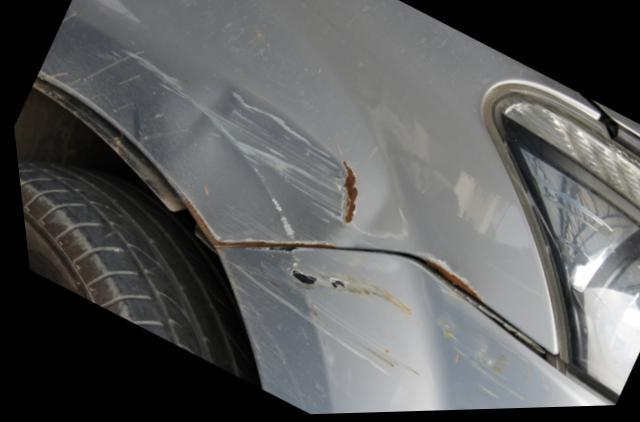dent: (171, 78, 231, 159)
dislocated part: (33, 0, 603, 371)
scratch: (220, 248, 533, 416), (213, 91, 355, 240), (79, 36, 184, 98)
